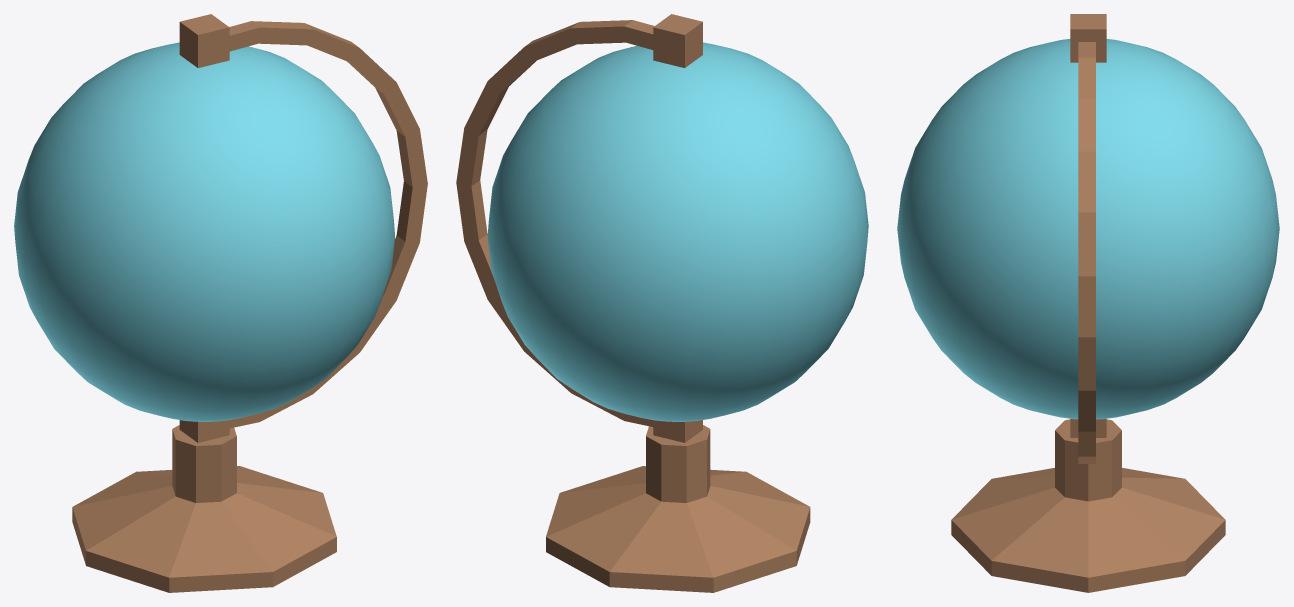
The model's file is Globus.fbx.
3 renders of one model, left to right at view 1: azimuth 30°, elevation 25°; view 2: azimuth 150°, elevation 25°; view 3: azimuth 270°, elevation 25°, orthographic.
Visible parts, largest first — view 1: Sphere; view 2: Sphere; view 3: Sphere.
Boxes of the visible parts, x1=… form: Sphere: x1=14, y1=14, x2=427, y2=592; Sphere: x1=456, y1=14, x2=868, y2=592; Sphere: x1=897, y1=14, x2=1279, y2=592.
Bounding box in the file's own units: 140 × 179 × 121.
